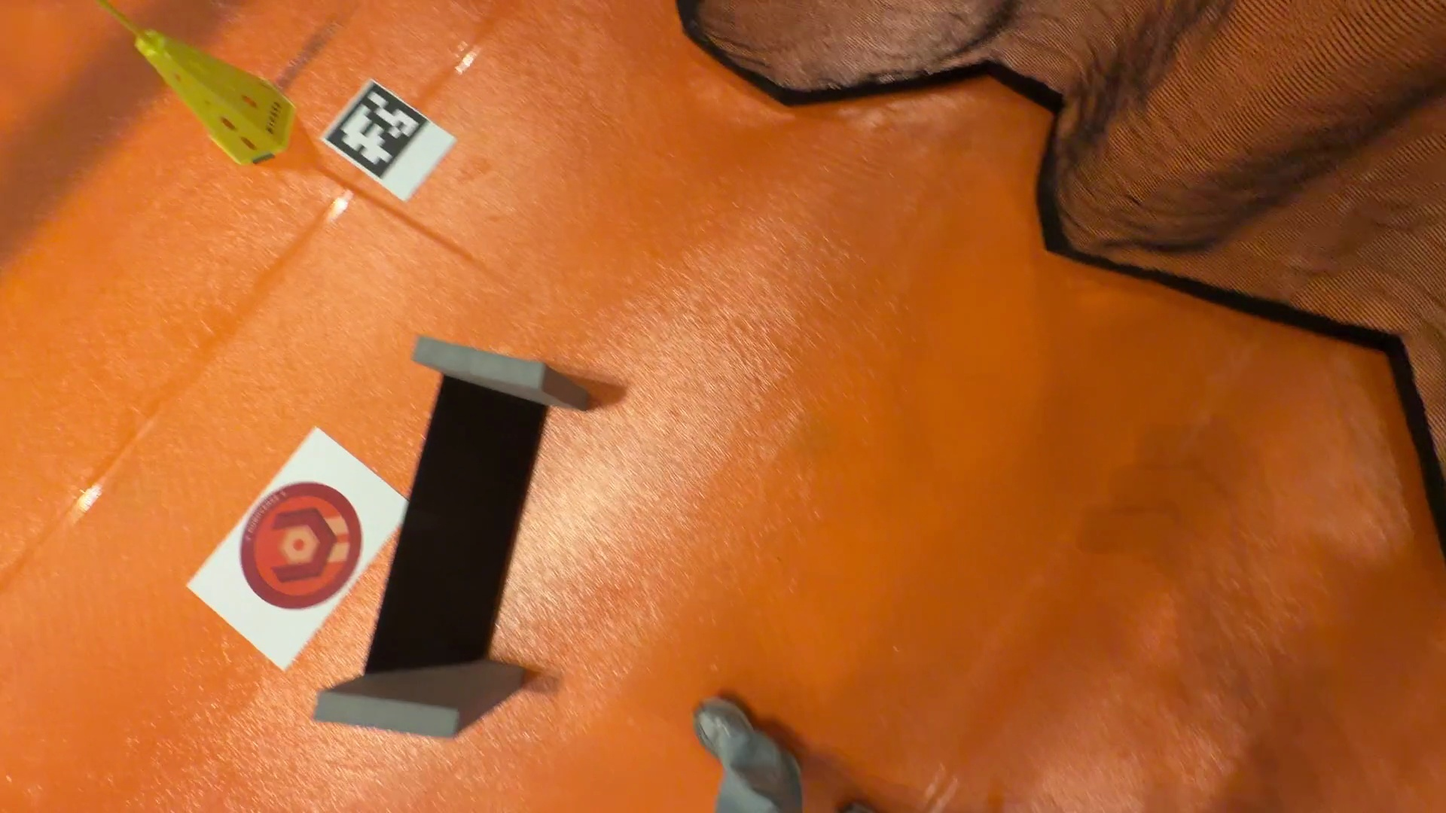landing_pad: (239, 482, 364, 609)
